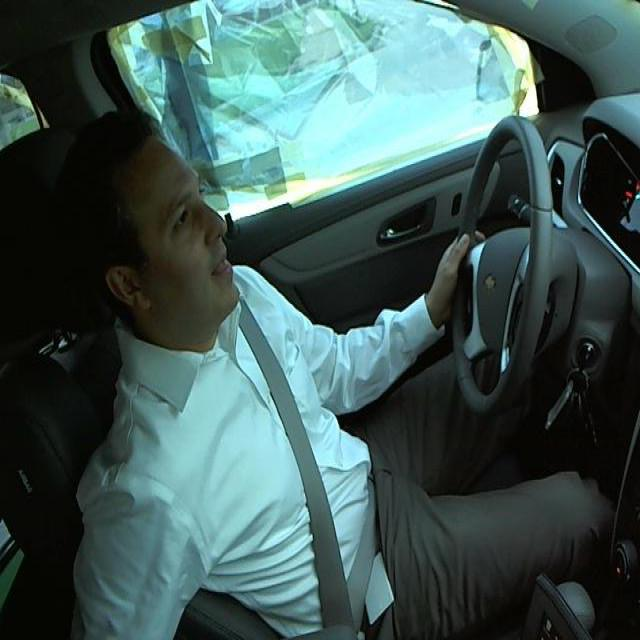seatbelt: (247, 347, 363, 633)
